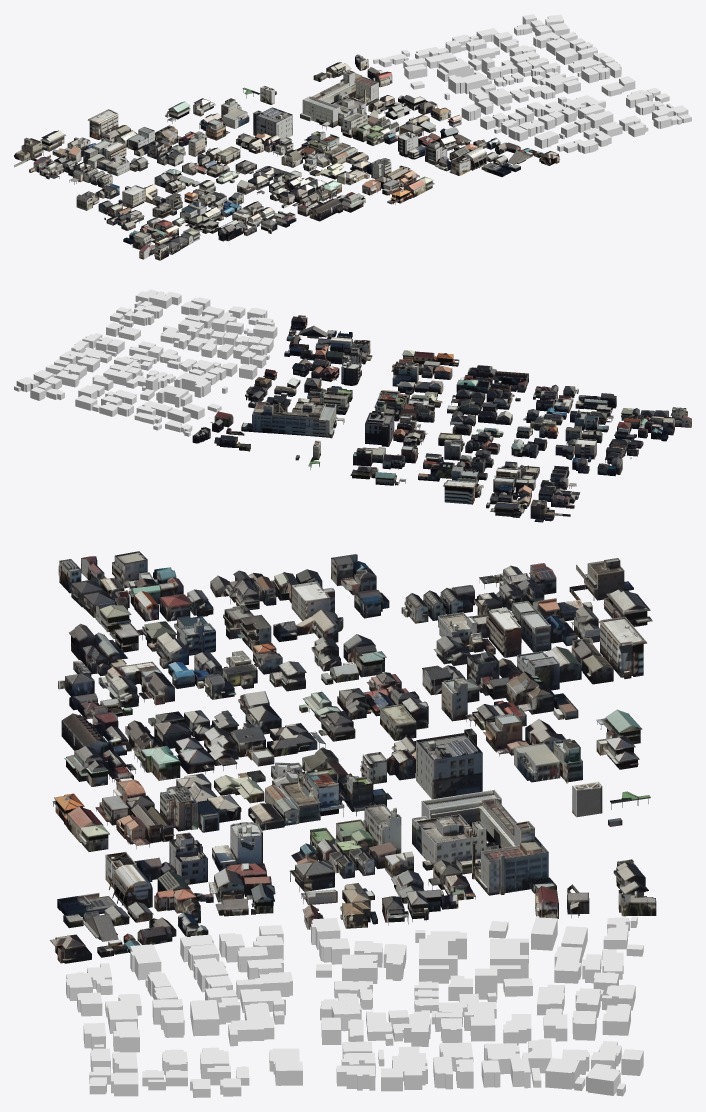
File: 2023-lod3-station-4-2-packed.glb
3 renders of one model, top to bottom at view 1: azimuth 30°, elevation 25°; view 2: azimuth 150°, elevation 25°; view 3: azimuth 270°, elevation 25°, orthographic. The views are drawn at different scales.
Size of the model in its own units: 491 by 22.76 by 236.
4 materials, 3 textured.
